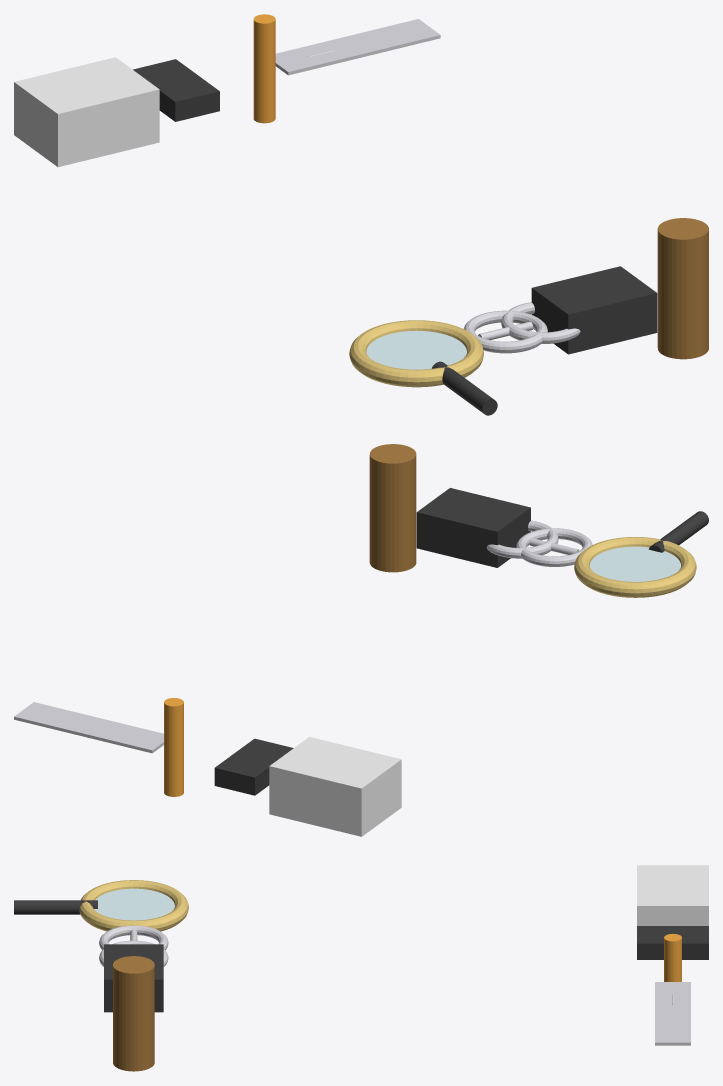
Rendered from items.glb.
3 renders of one model, top to bottom at view 1: azimuth 30°, elevation 25°; view 2: azimuth 150°, elevation 25°; view 3: azimuth 270°, elevation 25°, orthographic. The views are drawn at different scales.
Parts seen in each view (by area): view 1: ITEM_MEDKIT, ITEM_INVERTER, ITEM_BEER, ITEM_MAGNIFIER, ITEM_HANDSAW, ITEM_BURNER_PHONE, Magnifier_Lens, ITEM_ADRENALINE, ITEM_HANDCUFFS, Magnifier_Handle, Handcuff_Ring_2; view 2: ITEM_MEDKIT, ITEM_INVERTER, ITEM_BEER, ITEM_MAGNIFIER, ITEM_HANDSAW, ITEM_BURNER_PHONE, Magnifier_Lens, ITEM_ADRENALINE, ITEM_HANDCUFFS, Handcuff_Ring_2, Magnifier_Handle; view 3: ITEM_BEER, ITEM_MEDKIT, ITEM_MAGNIFIER, ITEM_HANDSAW, Magnifier_Lens, ITEM_BURNER_PHONE, ITEM_INVERTER, Magnifier_Handle, ITEM_ADRENALINE, ITEM_HANDCUFFS.
Part boxes in pixels (x1,y1,x2,y2): ITEM_MEDKIT: [14, 57, 159, 167]; ITEM_INVERTER: [531, 266, 657, 354]; ITEM_BEER: [657, 218, 708, 359]; ITEM_MAGNIFIER: [349, 320, 483, 387]; ITEM_HANDSAW: [275, 19, 440, 75]; ITEM_BURNER_PHONE: [133, 59, 219, 121]; Magnifier_Lens: [366, 330, 466, 369]; ITEM_ADRENALINE: [253, 14, 275, 123]; ITEM_HANDCUFFS: [463, 310, 547, 353]; Magnifier_Handle: [431, 361, 497, 415]; Handcuff_Ring_2: [501, 302, 580, 343]; ITEM_MEDKIT: [269, 737, 401, 836]; ITEM_INVERTER: [416, 488, 530, 567]; ITEM_BEER: [369, 444, 416, 572]; ITEM_MAGNIFIER: [574, 537, 696, 597]; ITEM_HANDSAW: [14, 702, 163, 753]; ITEM_BURNER_PHONE: [214, 738, 293, 795]; Magnifier_Lens: [589, 546, 680, 581]; ITEM_ADRENALINE: [164, 698, 183, 796]; ITEM_HANDCUFFS: [516, 528, 592, 566]; Handcuff_Ring_2: [486, 520, 558, 558]; Magnifier_Handle: [648, 511, 708, 552]; ITEM_BEER: [113, 956, 154, 1071]; ITEM_MEDKIT: [637, 865, 708, 925]; ITEM_MAGNIFIER: [79, 880, 188, 931]; ITEM_HANDSAW: [655, 982, 690, 1045]; Magnifier_Lens: [94, 888, 174, 920]; ITEM_BURNER_PHONE: [637, 926, 708, 959]; ITEM_INVERTER: [104, 944, 163, 1012]; Magnifier_Handle: [14, 900, 97, 914]; ITEM_ADRENALINE: [664, 934, 681, 981]; ITEM_HANDCUFFS: [99, 925, 168, 950].
Size of the model in its own units: 0.632 by 0.18 by 1.16.
